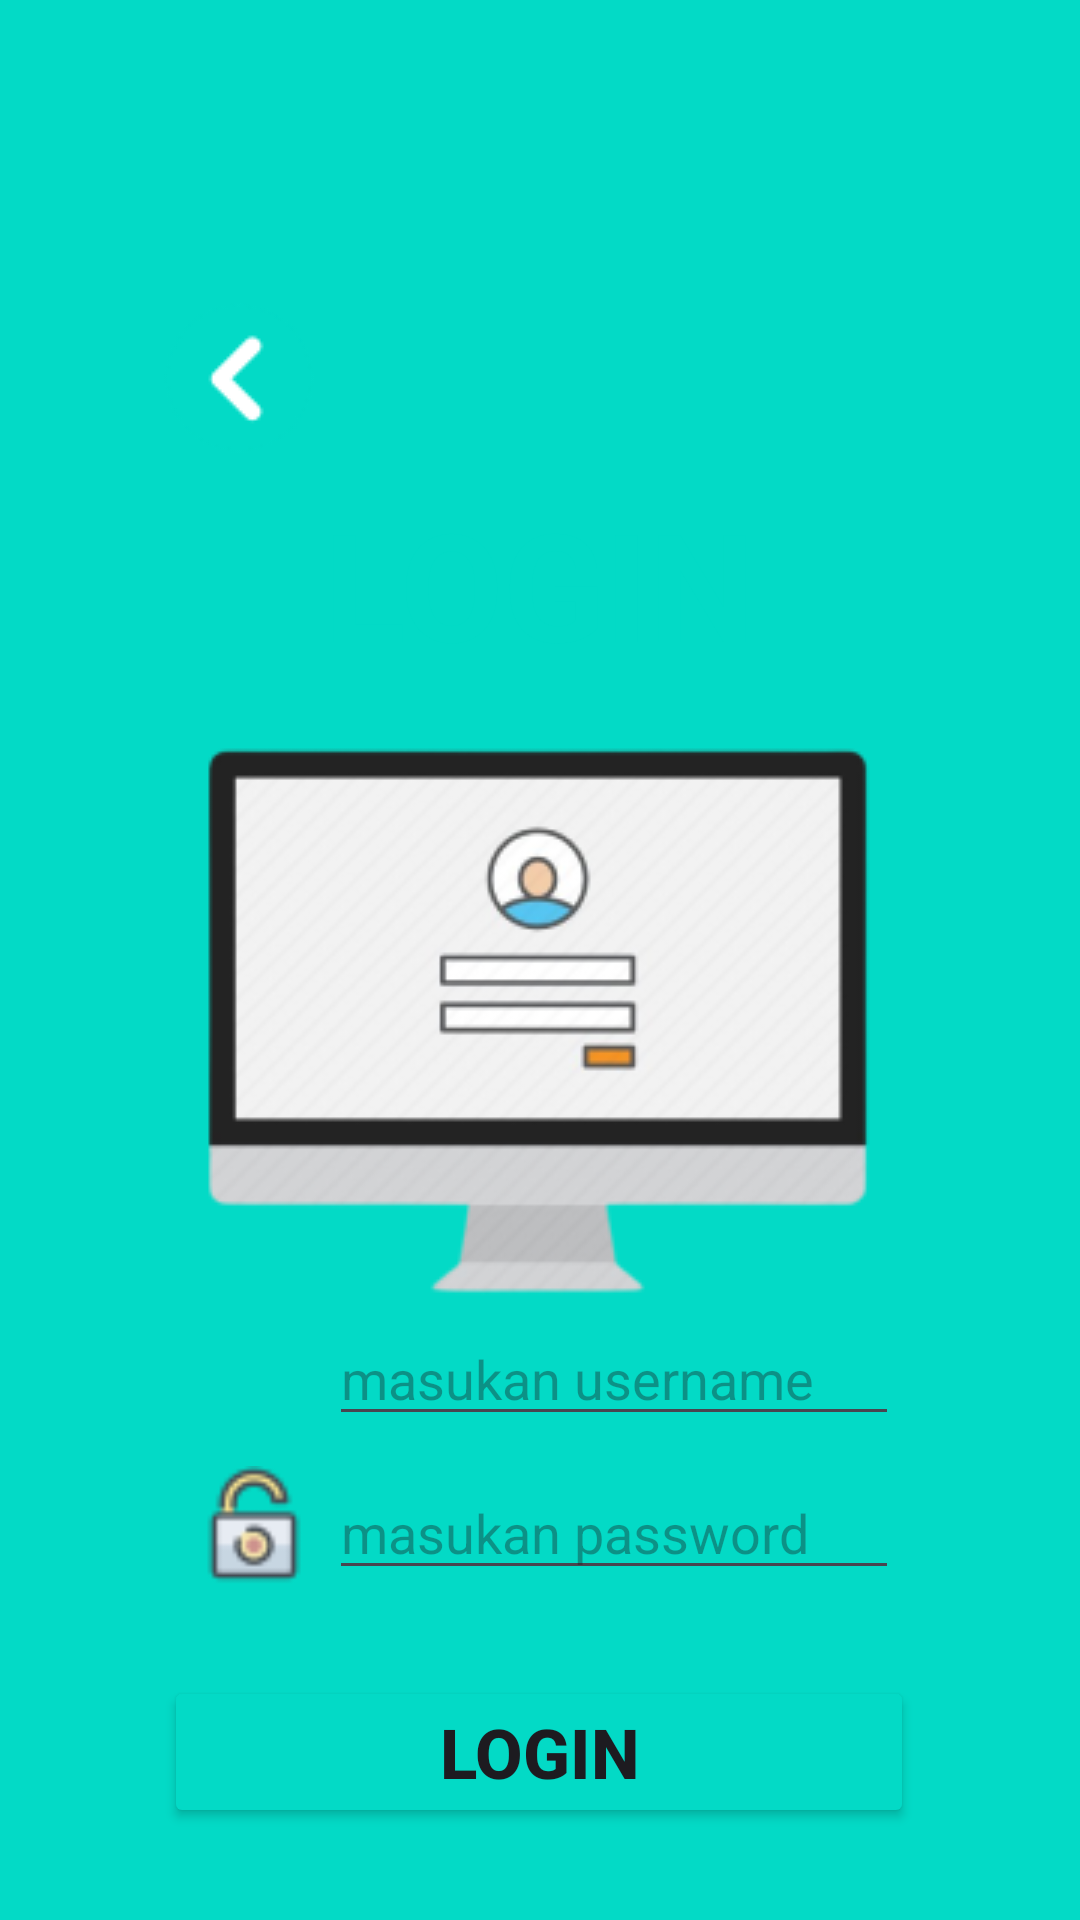

Locate icon controls on the screen. Image size 1080×1920, boxes as box(x1, y1, x2, y2).
icback: box(209, 335, 264, 422)
lock: box(209, 1466, 299, 1580)
